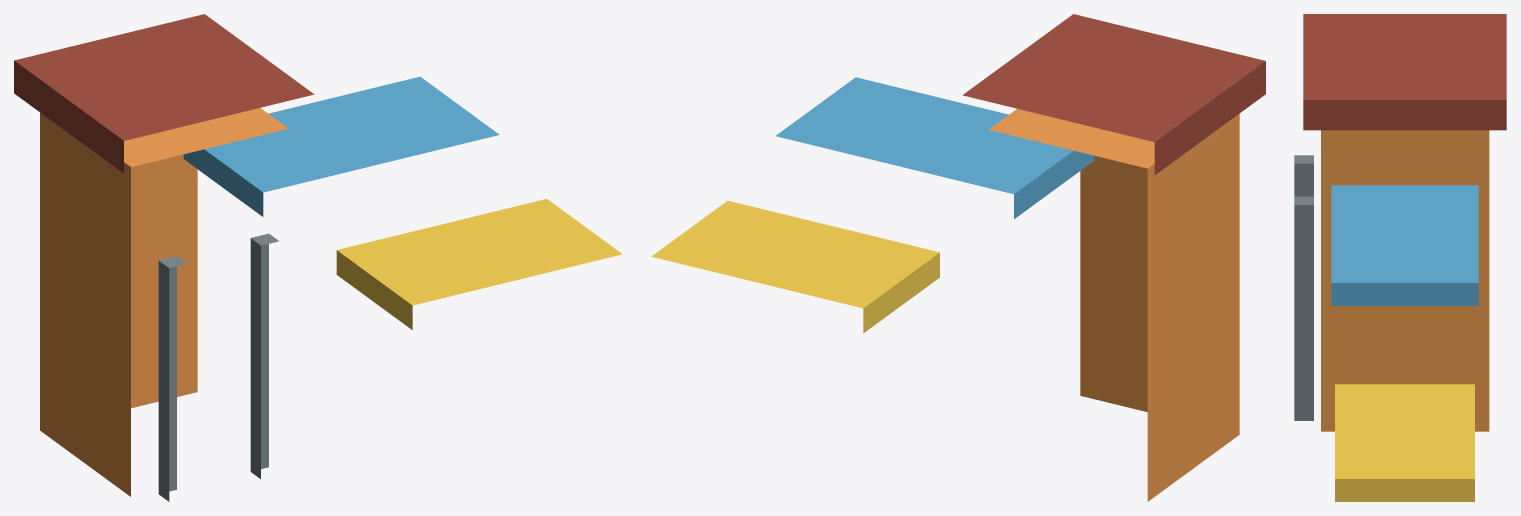
Rendered from play.glb.
The picture shows the model from 3 angles, left to right: view 1: azimuth 30°, elevation 25°; view 2: azimuth 150°, elevation 25°; view 3: azimuth 270°, elevation 25°; orthographic projection. The views are drawn at different scales.
Bounding box in the file's own units: 3.93 × 2.67 × 1.52.
